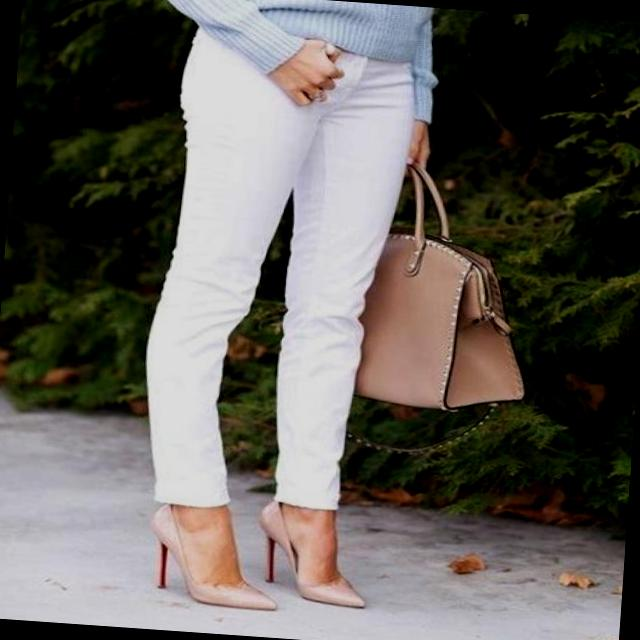pants: (132, 23, 423, 515)
